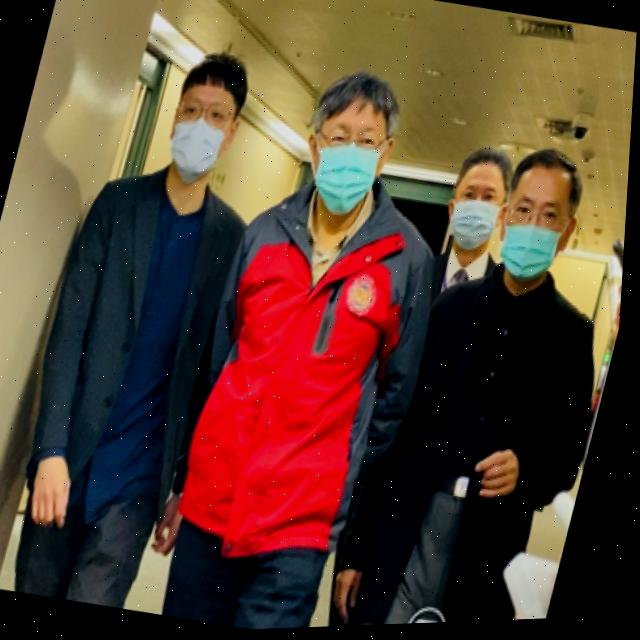Mask: (296, 127, 399, 224), (487, 202, 583, 293), (159, 107, 243, 194), (442, 199, 503, 265)
